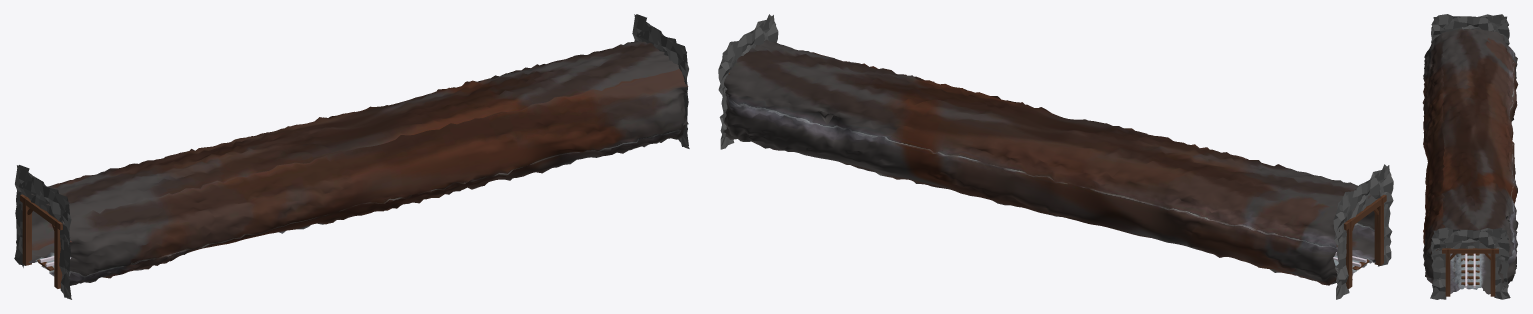
Rendered from track_01.fbx.
The picture shows the model from 3 angles, left to right: view 1: azimuth 30°, elevation 25°; view 2: azimuth 150°, elevation 25°; view 3: azimuth 270°, elevation 25°; orthographic projection. The views are drawn at different scales.
Parts seen in each view (by area): view 1: Tunnel, WallBack, Wall, Gate, WallBack.001, Wall.001; view 2: Tunnel, WallBack, Wall, Gate, WallBack.001, Wall.001; view 3: Tunnel, Wall.001, WallBack.001, Wall, GateExit, WallBack, Plank, Track.
Part boxes in pixels (left/top/right/bottom): Tunnel: left=18, top=41, right=688, bottom=285; WallBack: left=14, top=165, right=71, bottom=297; Wall: left=15, top=165, right=71, bottom=299; Gate: left=20, top=194, right=62, bottom=288; WallBack.001: left=634, top=14, right=688, bottom=146; Wall.001: left=632, top=14, right=689, bottom=148; Tunnel: left=724, top=39, right=1383, bottom=285; WallBack: left=1333, top=164, right=1393, bottom=299; Wall: left=1334, top=165, right=1393, bottom=296; Gate: left=1344, top=194, right=1386, bottom=288; WallBack.001: left=718, top=14, right=775, bottom=149; Wall.001: left=718, top=15, right=778, bottom=146; Tunnel: left=1422, top=28, right=1518, bottom=294; Wall.001: left=1430, top=228, right=1509, bottom=299; WallBack.001: left=1431, top=227, right=1510, bottom=299; Wall: left=1431, top=14, right=1509, bottom=45; GateExit: left=1442, top=248, right=1498, bottom=296; WallBack: left=1431, top=14, right=1509, bottom=42; Plank: left=1461, top=253, right=1479, bottom=285; Track: left=1465, top=253, right=1475, bottom=287.
Bounding box in the file's own units: 5066 × 779 × 950.
